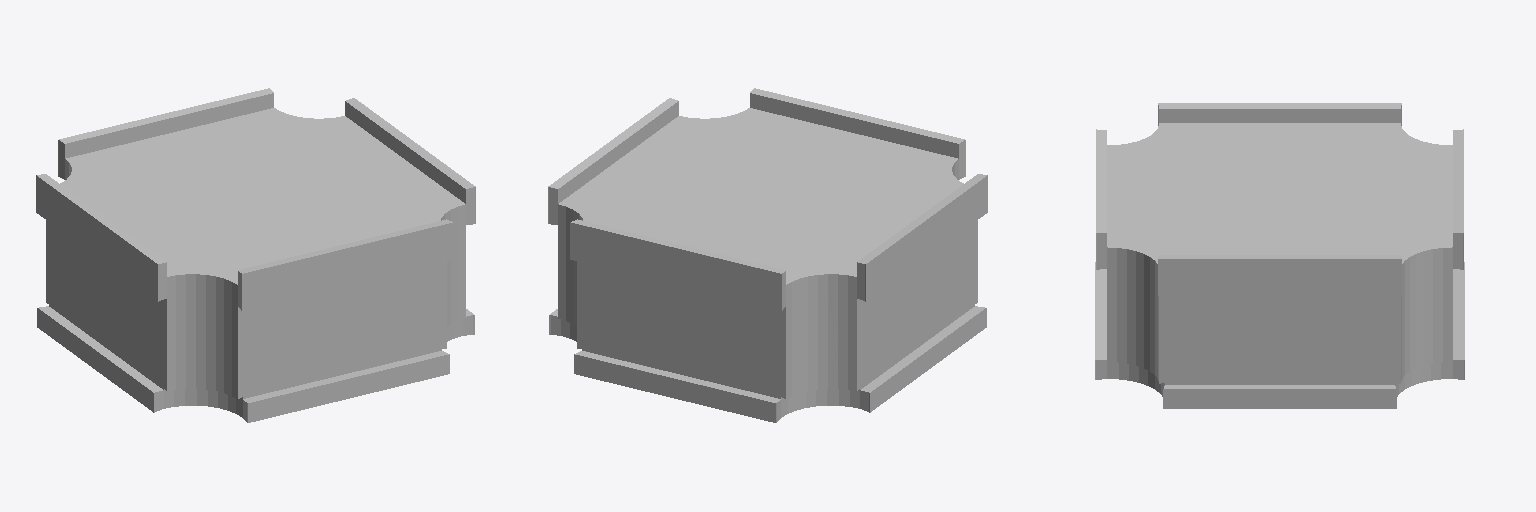
File: castle_base.obj
The picture shows the model from 3 angles: view 1: azimuth 30°, elevation 25°; view 2: azimuth 150°, elevation 25°; view 3: azimuth 270°, elevation 25°; orthographic projection.
Parts seen in each view (by area): view 1: Cube_Cube.001; view 2: Cube_Cube.001; view 3: Cube_Cube.001.
Part boxes in pixels (bbox=[...]): Cube_Cube.001: bbox=[36, 88, 475, 422]; Cube_Cube.001: bbox=[548, 88, 987, 422]; Cube_Cube.001: bbox=[1095, 103, 1464, 408].
Size of the model in its own units: 0.1477 by 0.066 by 0.1477.